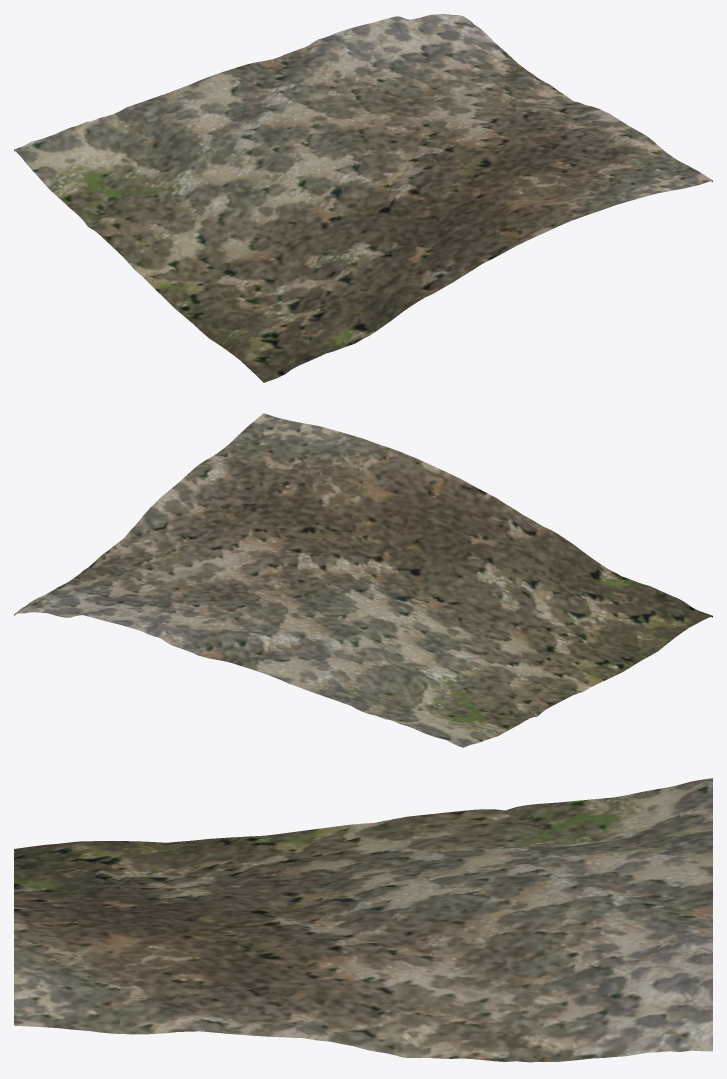
3 views of the same model, one above another, from view 1: azimuth 30°, elevation 25°; view 2: azimuth 150°, elevation 25°; view 3: azimuth 270°, elevation 25° (orthographic). The views are drawn at different scales.
Bounding box in the file's own units: 250 × 50.77 × 241.
Materials: 1 (1 with a texture image).
